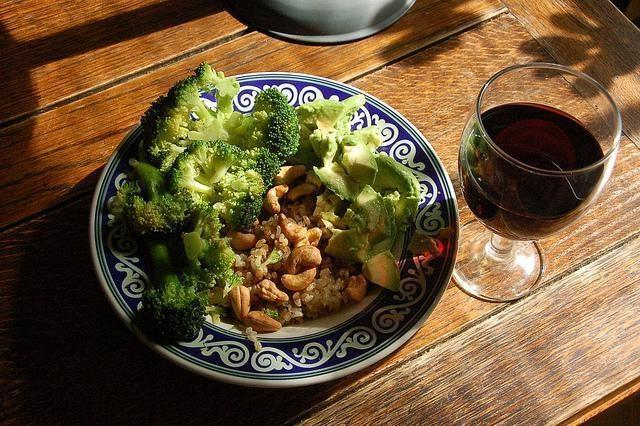glass-wine: (454, 64, 624, 302)
